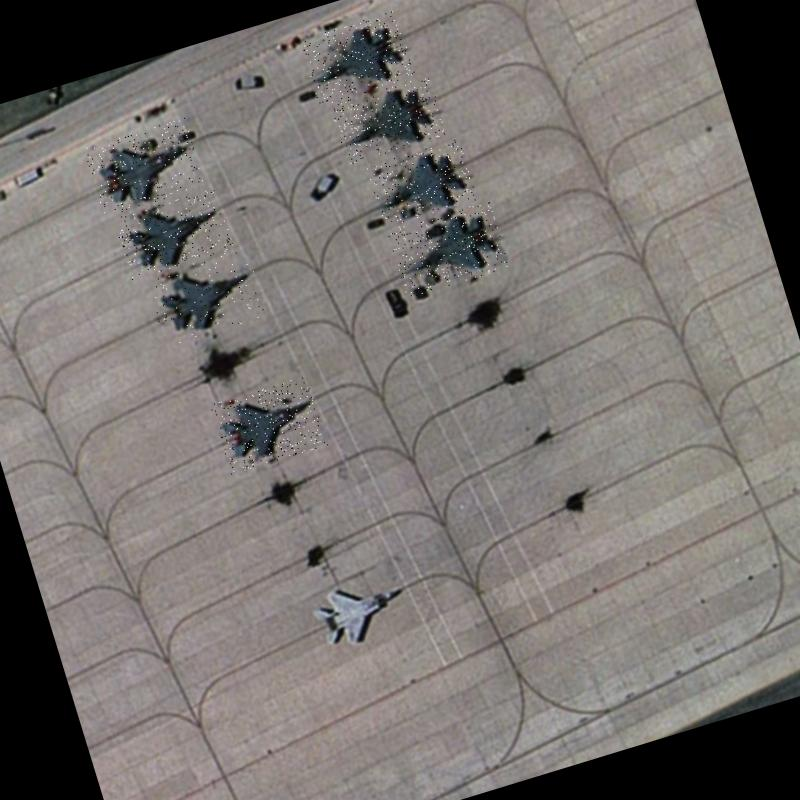A13: (299, 561, 422, 664), (145, 246, 268, 347), (387, 199, 510, 298), (84, 118, 206, 217), (210, 376, 328, 474), (300, 10, 416, 106), (114, 188, 234, 280), (330, 75, 447, 165), (366, 138, 477, 228)
